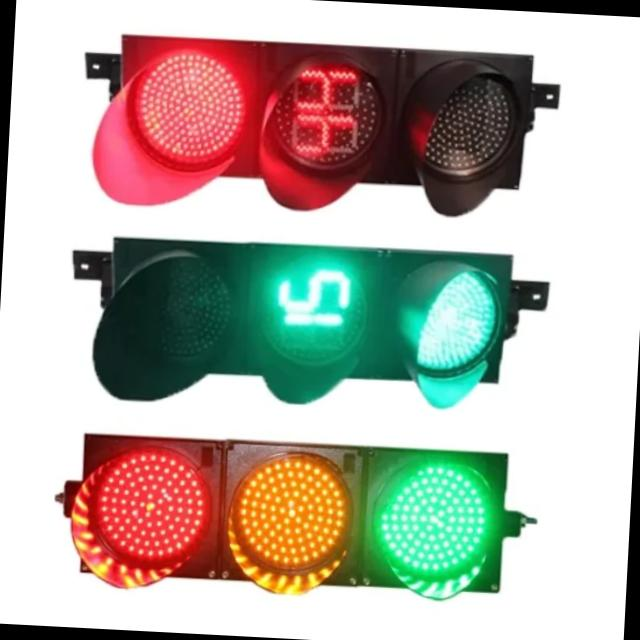green-lights: (372, 456, 496, 574), (414, 264, 501, 374)
red-lights: (130, 48, 248, 166), (94, 448, 208, 564)
yellow-lights: (237, 452, 351, 567)
